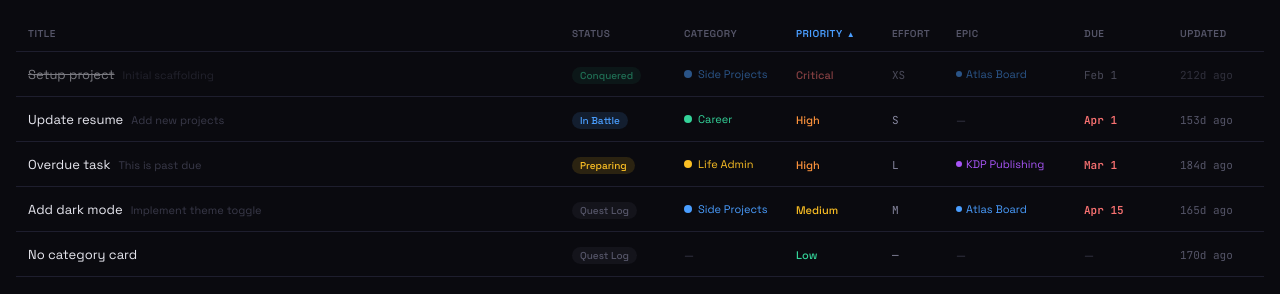
it: ListView › switches sort field when a different header is clicked
The width and height of the screenshot is (1280, 294).
What coordinates should you click on to do the following:
click the column heading "Title"
I would click on:
 (42, 34)
Its box is [16, 16, 560, 52].
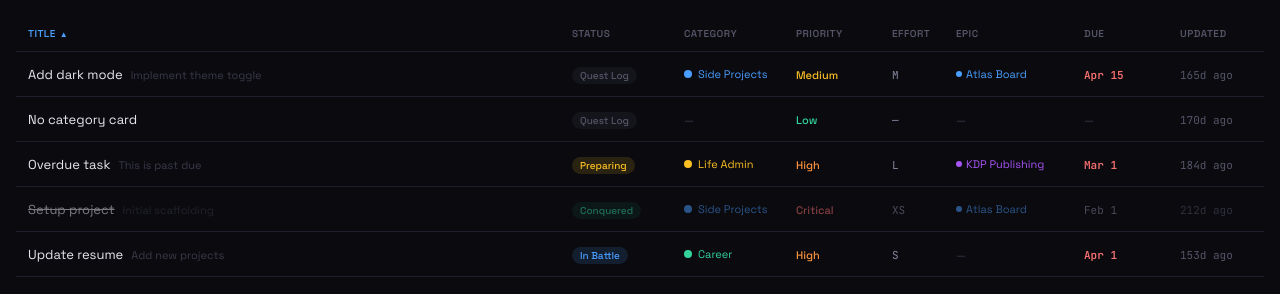
Now the column heading "Title" shows "▲", box [60, 29, 68, 39]
Now the text "Priority" no longer shows "▲"
